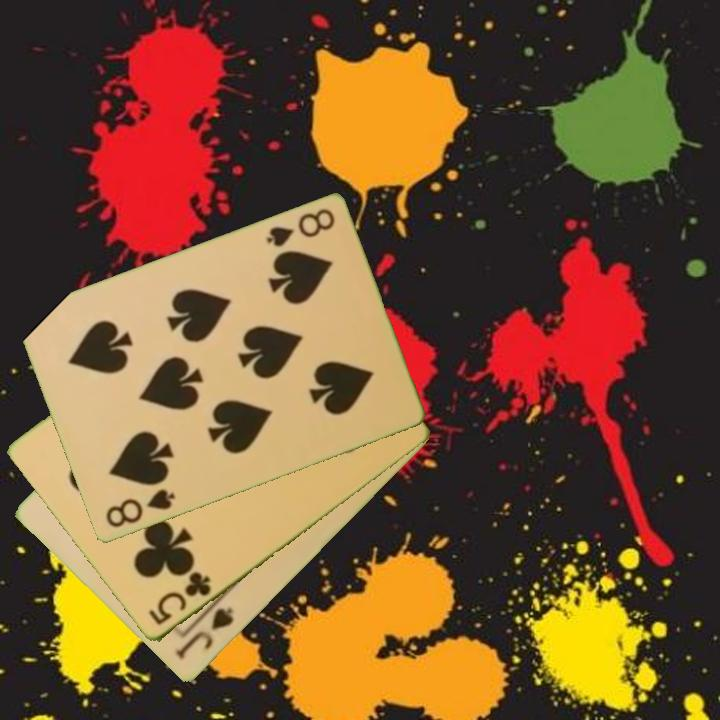5c: (145, 568, 214, 629)
8s: (102, 485, 178, 531), (262, 205, 338, 251)
Js: (171, 604, 237, 664)
